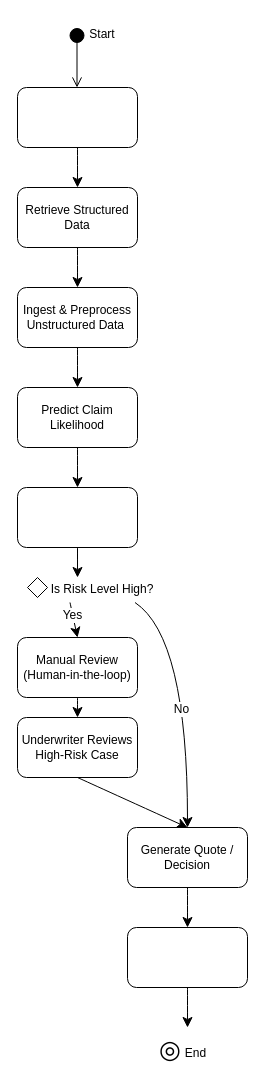
This 265x1084 diagram has some shape labels left out. Each missing label, with the centre of its shape:
"Calculate Risk Tier" goes at [77,517].
"Store Decision & Score" goes at [187,957].
"Submit Request" goes at [77,117].
